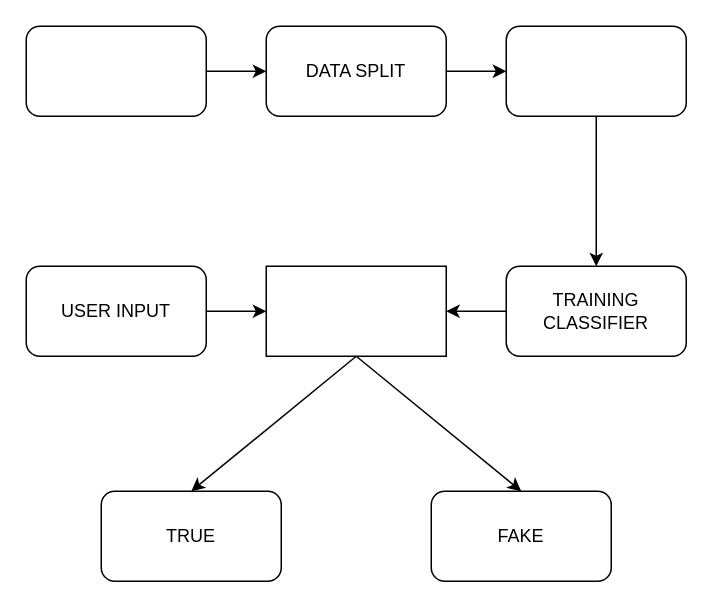
This 713x608 diagram has some shape labels left out. Each missing label, with the centre of its shape:
CLASSIFICATION MODEL: point 355,310
DATASET: point 115,70
PREPROCESSING: point 595,70
